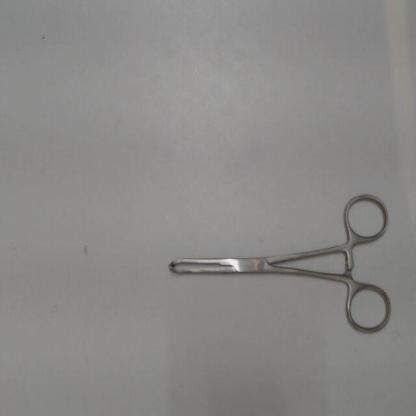Allis Tissue Forceps: (162, 183, 396, 344)
